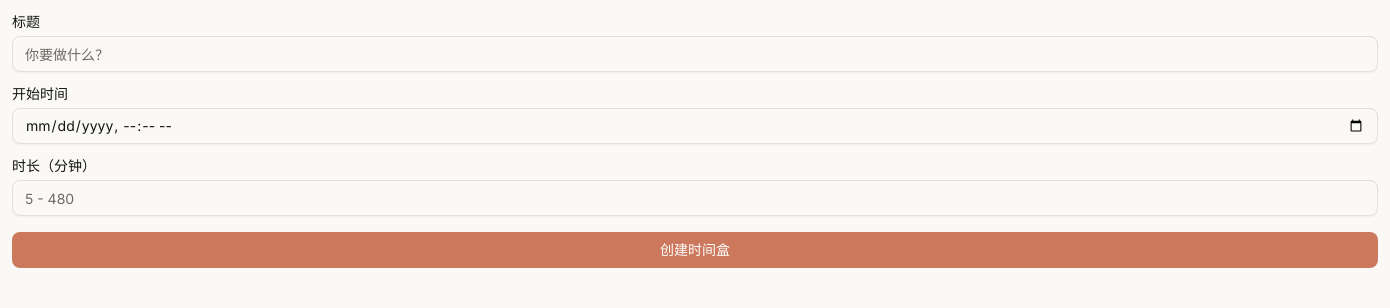
it: IntentForm › 时长小于 5 分钟时显示验证错误
This screenshot has width=1390, height=308.
Type "测试" into the field labelled "标题". click: [695, 54]
box: [12, 36, 1378, 72]
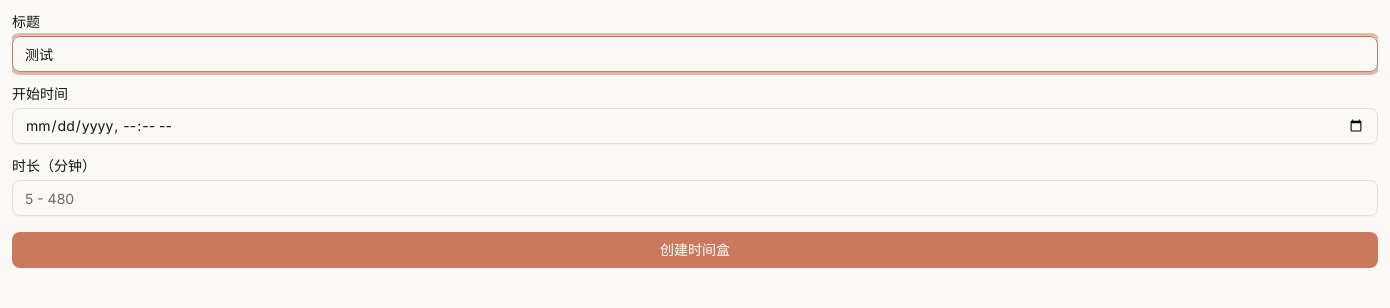
Type "2026-05-03T10:00" into the field labelled "开始时间". click: [695, 126]
box: [12, 108, 1378, 144]
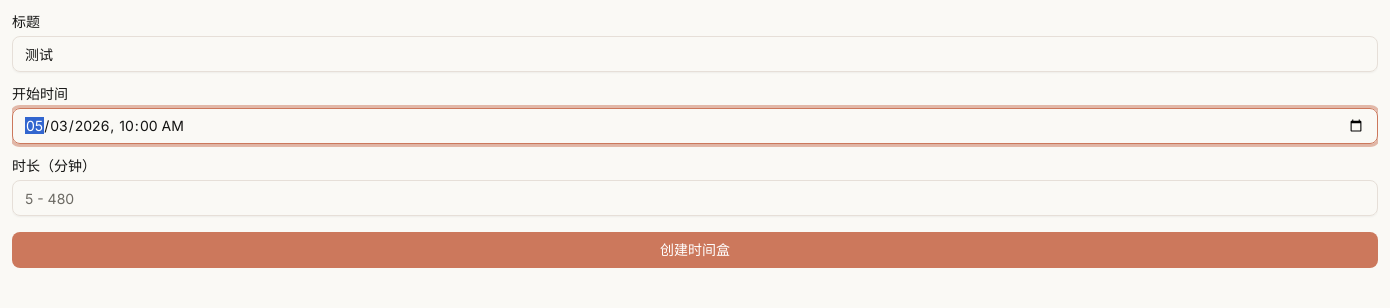
Type "3" into the number field labelled "时长（分钟）". click: [695, 198]
box: [12, 180, 1378, 216]
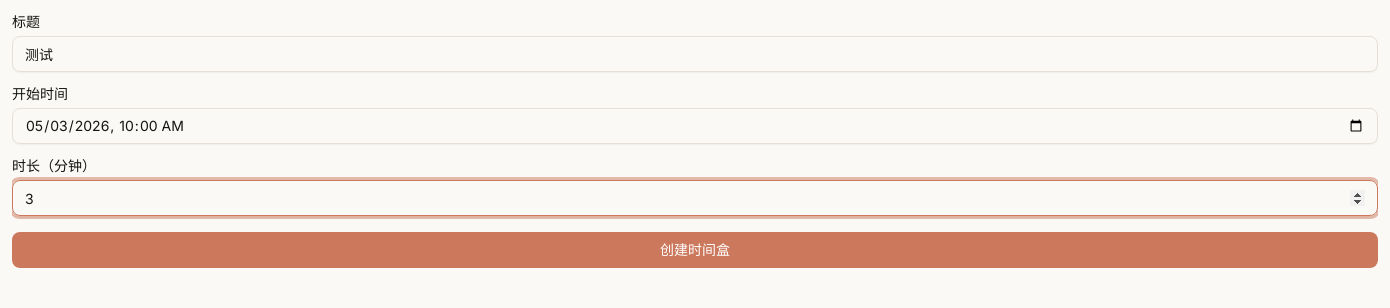
Click the button "创建时间盒". click: [695, 250]
box: [12, 232, 1378, 268]
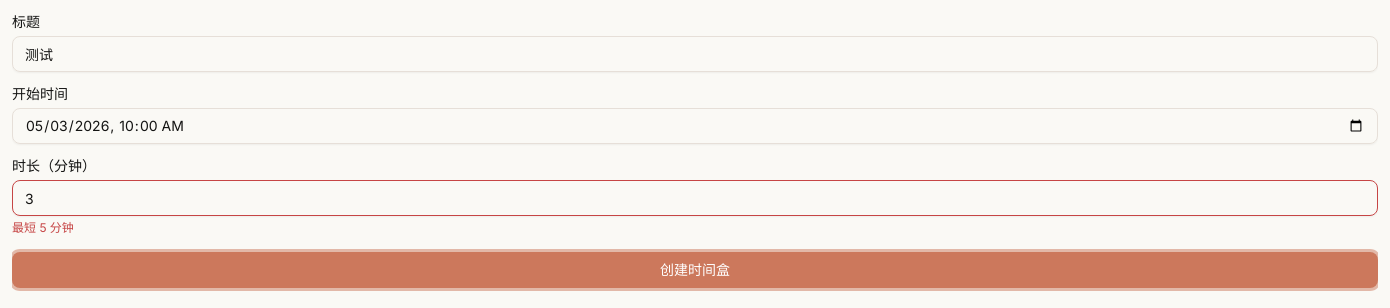
Result: the text "最短 5 分钟" is shown at [12, 220, 74, 235]
